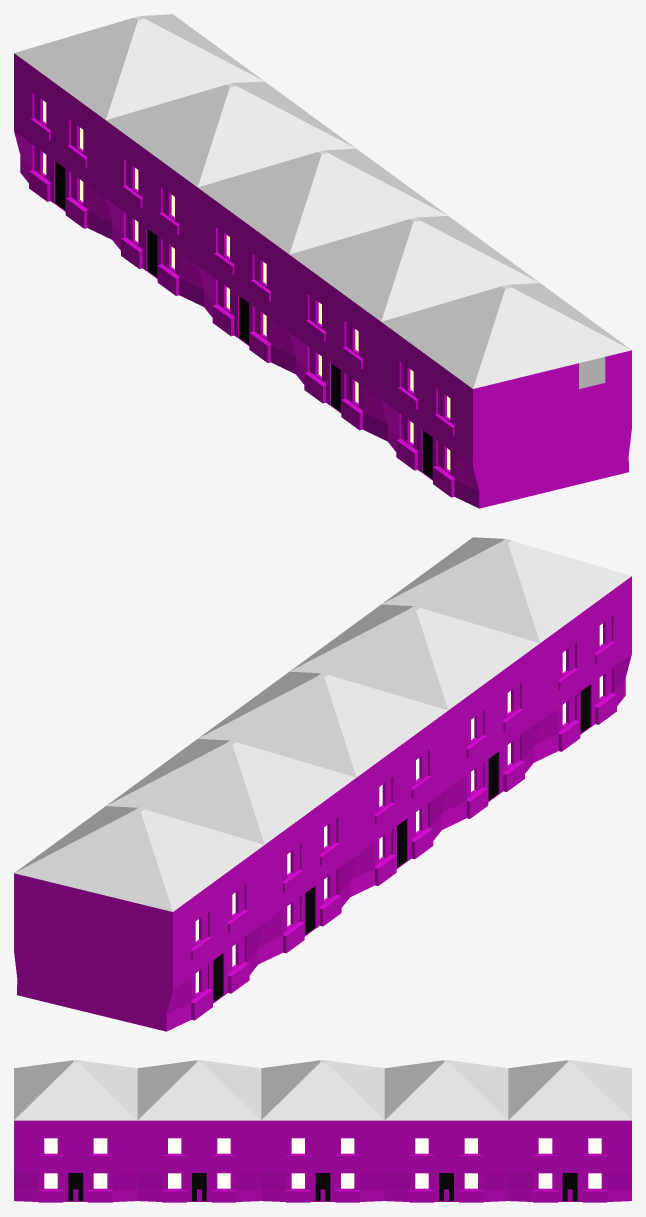
File: two_storey_house_4.fbx
3 renders of one model, top to bottom at view 1: azimuth 30°, elevation 25°; view 2: azimuth 150°, elevation 25°; view 3: azimuth 270°, elevation 25°, orthographic. The views are drawn at different scales.
Visible parts, largest first — view 1: Cube; view 2: Cube; view 3: Cube.
Part boxes in pixels (x1,y1,x2,y2): Cube: (14,14,631,508); Cube: (14,537,631,1031); Cube: (14,1060,631,1202).
Size of the model in its own units: 19.95 by 19.75 by 96.5.
